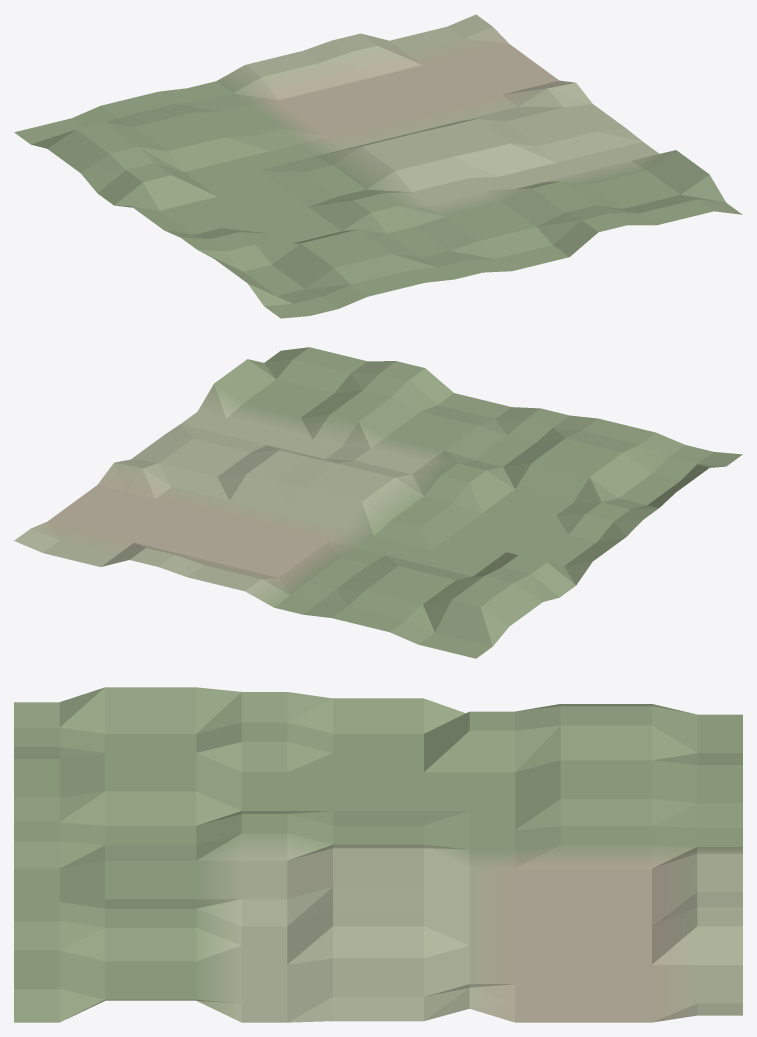
3 views of the same model, one above another, from view 1: azimuth 30°, elevation 25°; view 2: azimuth 150°, elevation 25°; view 3: azimuth 270°, elevation 25° (orthographic). The views are drawn at different scales.
Bounding box in the file's own units: 32 × 1.34 × 32.
